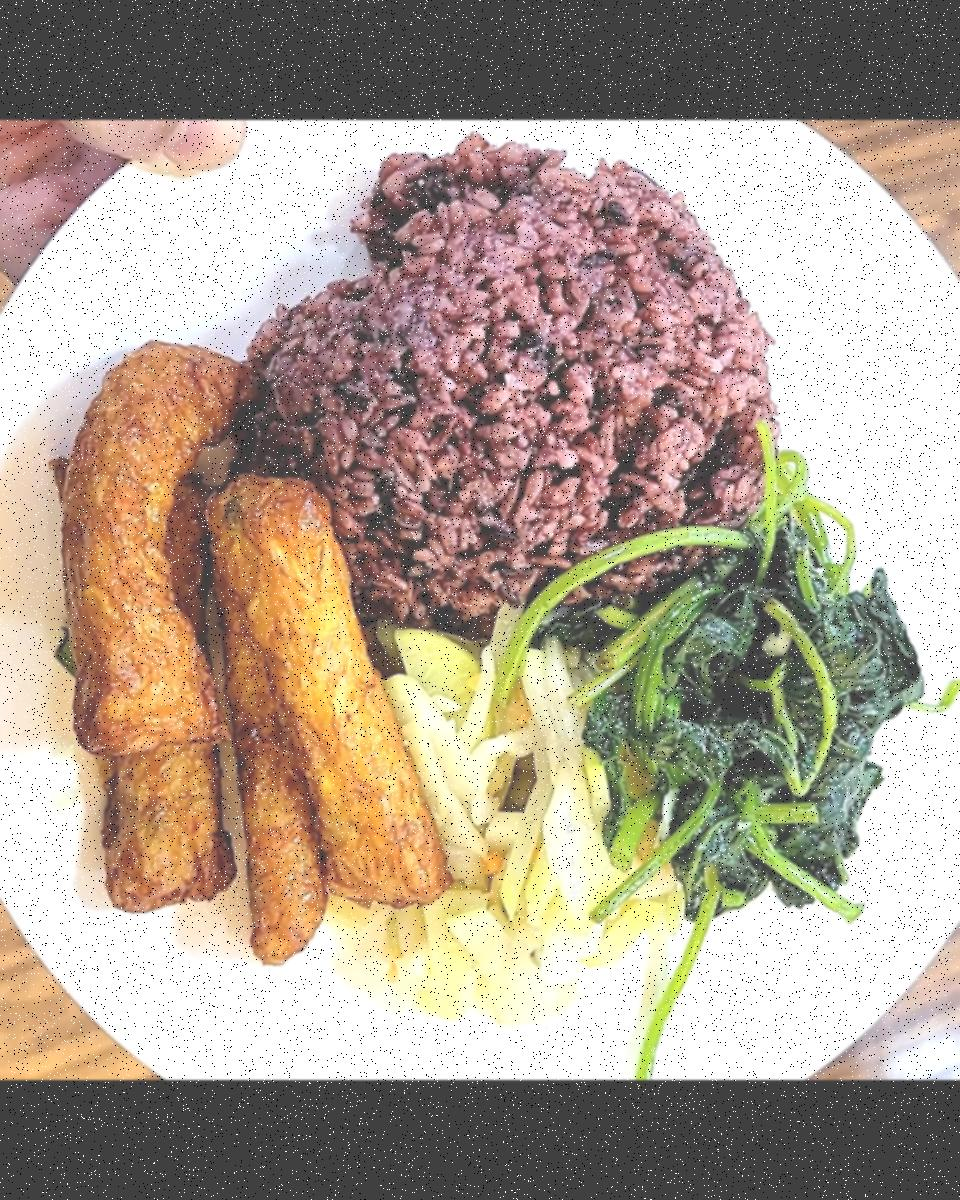plate: (0, 120, 960, 1080)
purple rice: (230, 137, 794, 659)
shrimp rolls: (32, 325, 457, 969)
side dish: (602, 487, 935, 959), (364, 638, 687, 1034)
